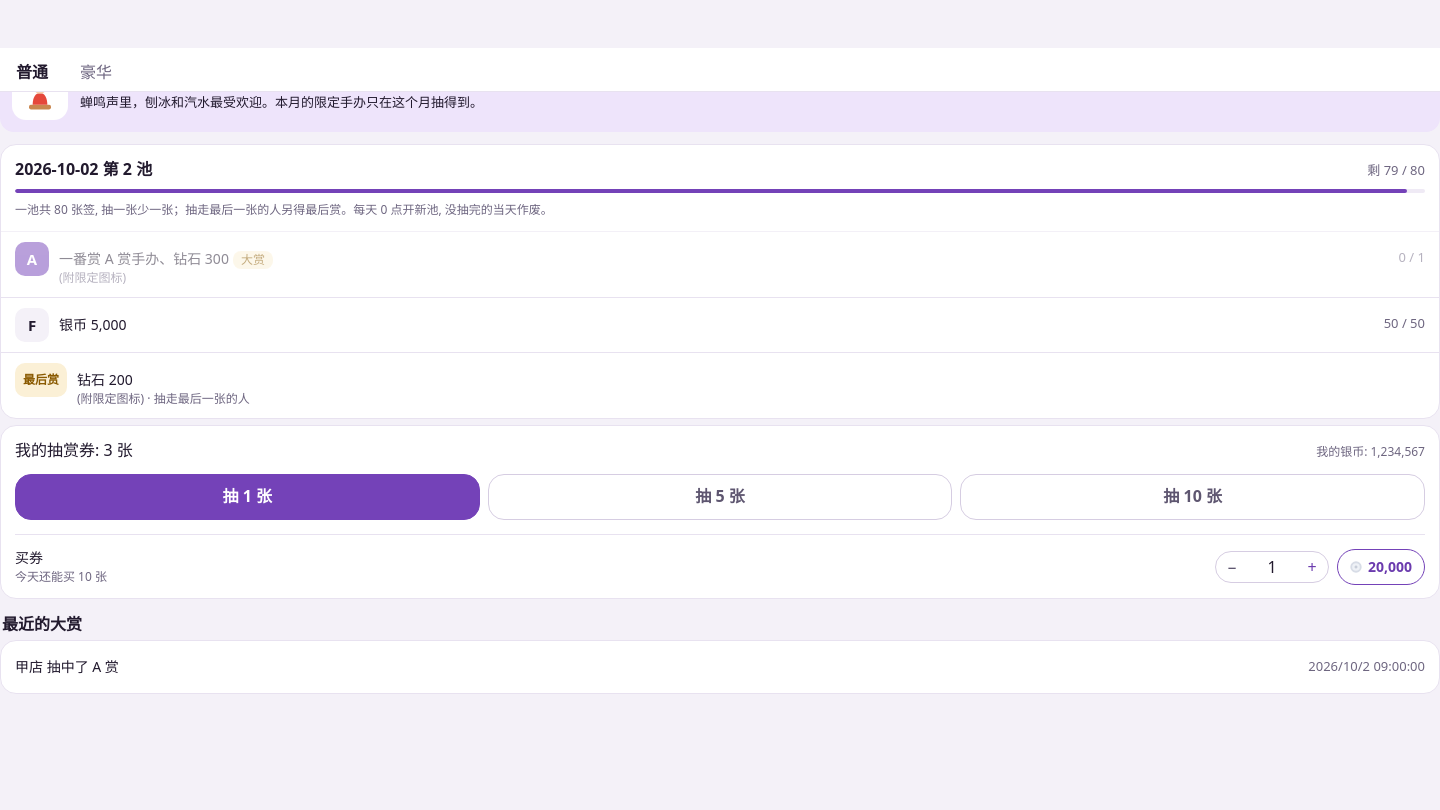
Test: KujiView（一番赏设计 §7.2） › 抽到大赏：结果里的徽章用实色；没得最后赏不写最后赏
Click the button with test id "kj-draw-1" at (247, 497), box [15, 474, 480, 520]
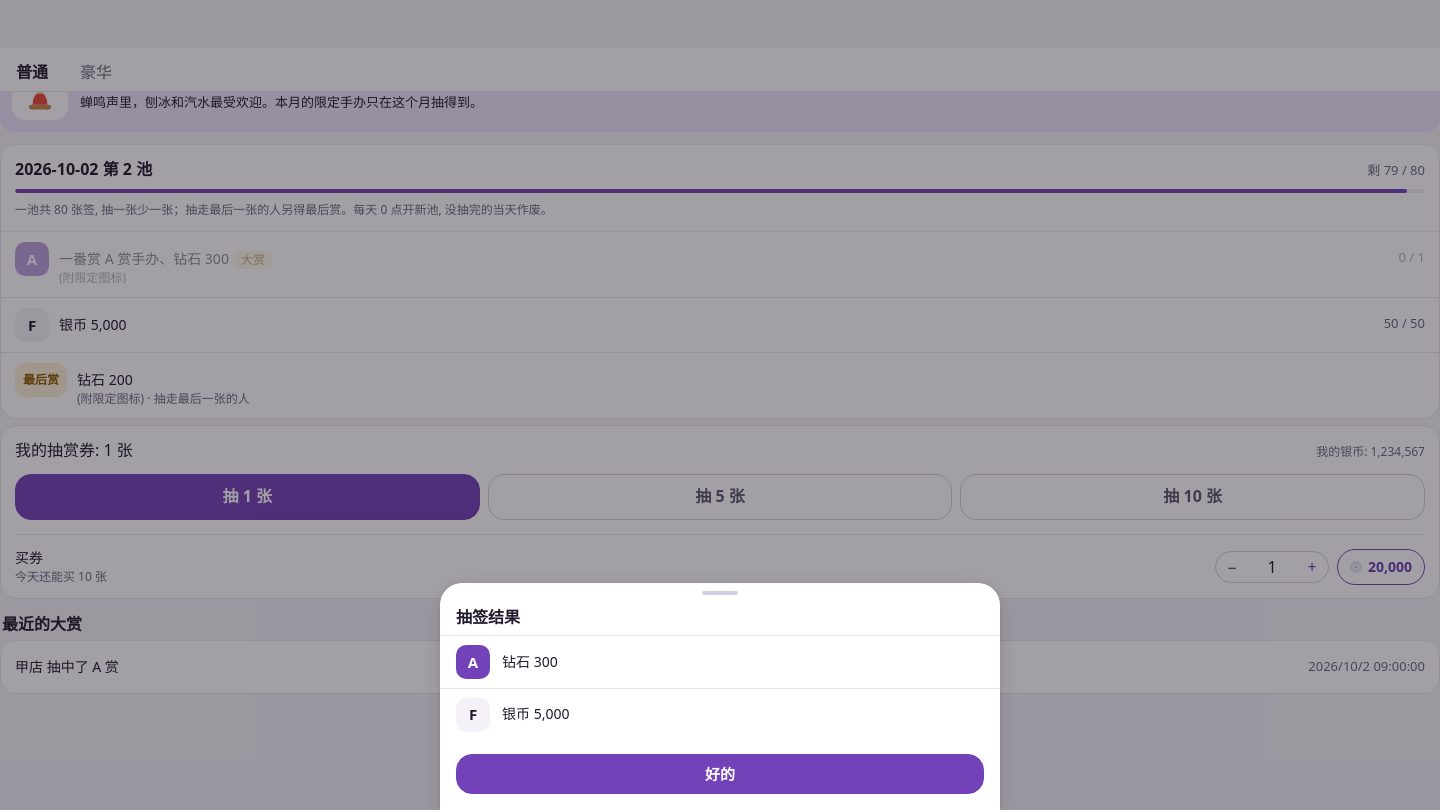
Expected: the elements with class "dt-kuji-badge" read "A", "F", in this order, [456, 645, 490, 679]; [456, 698, 490, 732]
